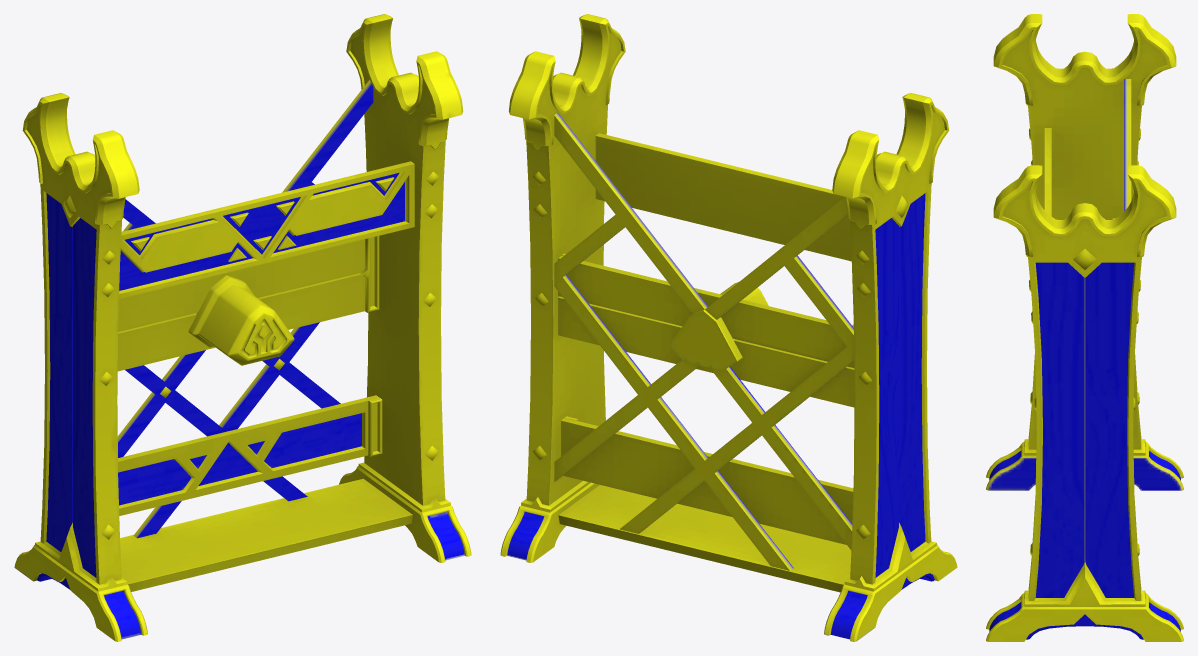
Rendered from iw_tanning_rack.fbx.
3 renders of one model, left to right at view 1: azimuth 30°, elevation 25°; view 2: azimuth 150°, elevation 25°; view 3: azimuth 270°, elevation 25°, orthographic. The views are drawn at different scales.
Visible parts, largest first — view 1: renderMesh0; view 2: renderMesh0; view 3: renderMesh0.
Part boxes in pixels (x1,y1,x2,y2): renderMesh0: [14, 14, 471, 641]; renderMesh0: [500, 14, 957, 641]; renderMesh0: [986, 14, 1183, 641].
Bounding box in the file's own units: 55.07 × 71.64 × 27.64.
1 material, 1 textured.
